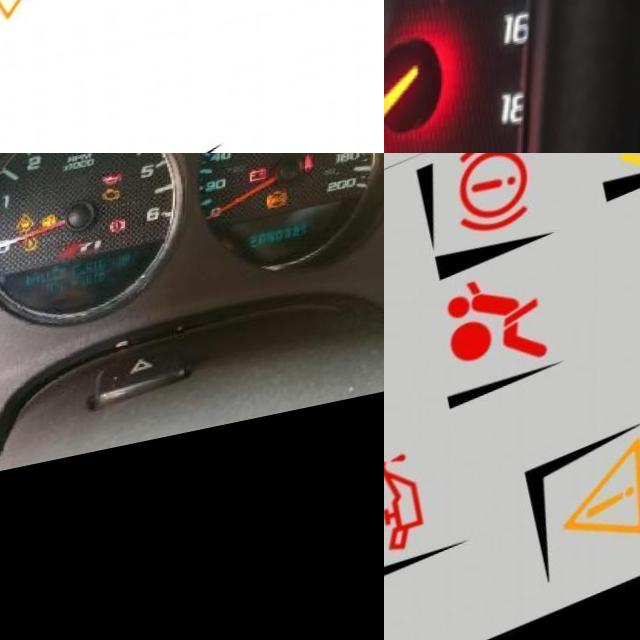Seat Belt: (303, 174, 315, 193)
